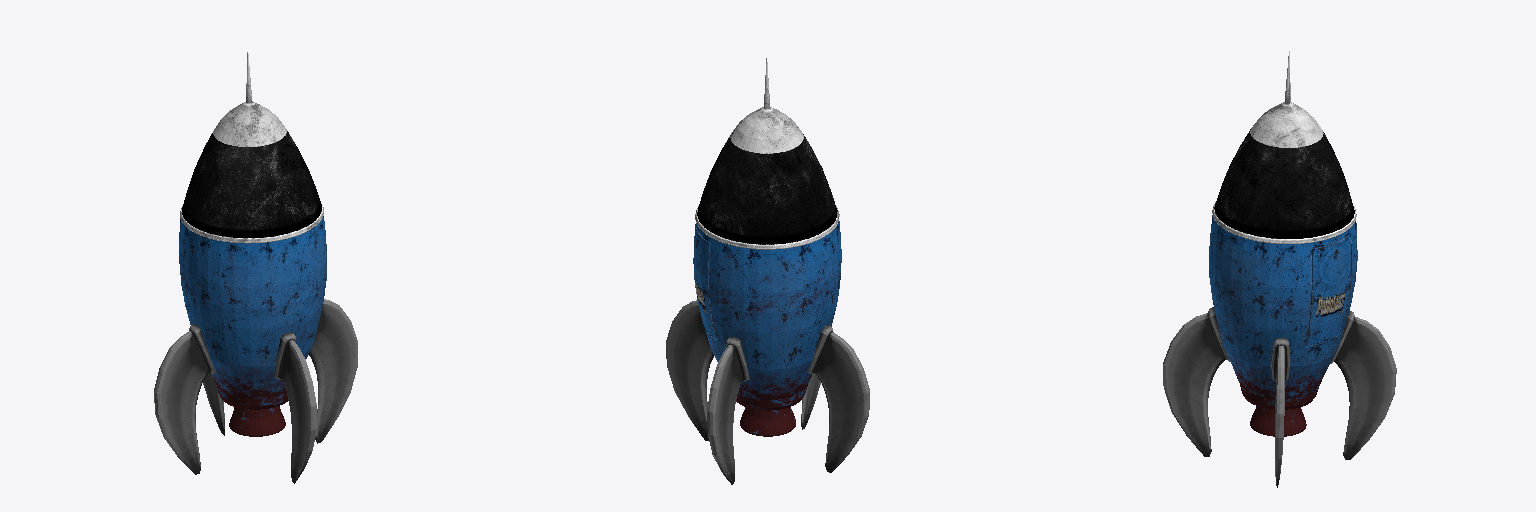
3 renders of one model, left to right at view 1: azimuth 30°, elevation 25°; view 2: azimuth 150°, elevation 25°; view 3: azimuth 270°, elevation 25°, orthographic.
Parts seen in each view (by area): view 1: CUERPO.002, CUERPO.003, ALERONES.001; view 2: CUERPO.002, CUERPO.003, ALERONES.001; view 3: CUERPO.002, CUERPO.003, ALERONES.001.
Boxes of the visible parts, <box> form: CUERPO.002: <box>179,216,326,436</box>; CUERPO.003: <box>180,52,323,243</box>; ALERONES.001: <box>154,299,357,483</box>; CUERPO.002: <box>693,221,841,436</box>; CUERPO.003: <box>695,58,839,249</box>; ALERONES.001: <box>666,300,869,484</box>; CUERPO.002: <box>1209,215,1357,436</box>; CUERPO.003: <box>1212,50,1356,243</box>; ALERONES.001: <box>1163,307,1396,487</box>.
Bounding box in the file's own units: 1.64 × 3.16 × 1.64.
Materials: 4 (3 with a texture image).